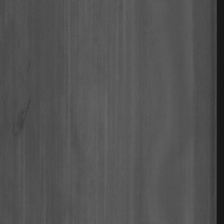water_spot: (12, 92, 31, 137)
